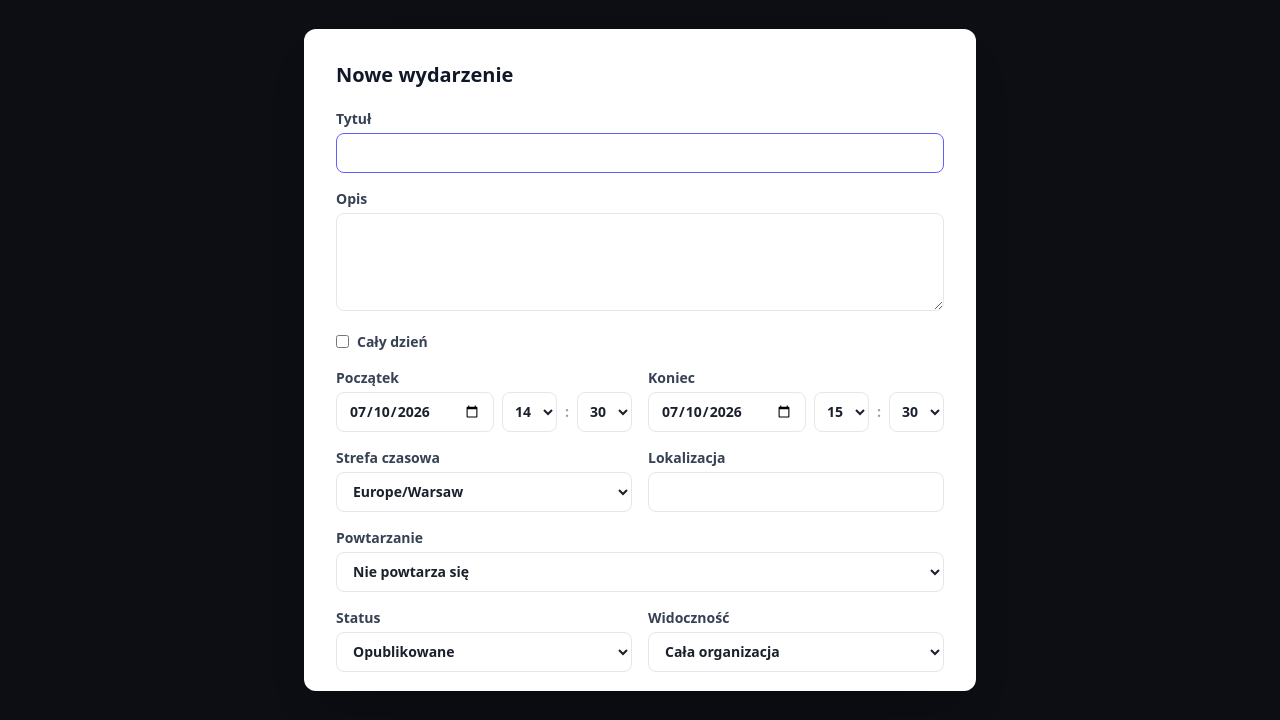
EventFormModal › sets both dates to the clicked day for an all-day event
This screenshot has width=1280, height=720.
Click the checkbox labelled "Cały dzień" at {"x": 342, "y": 342}, box [336, 335, 349, 348]
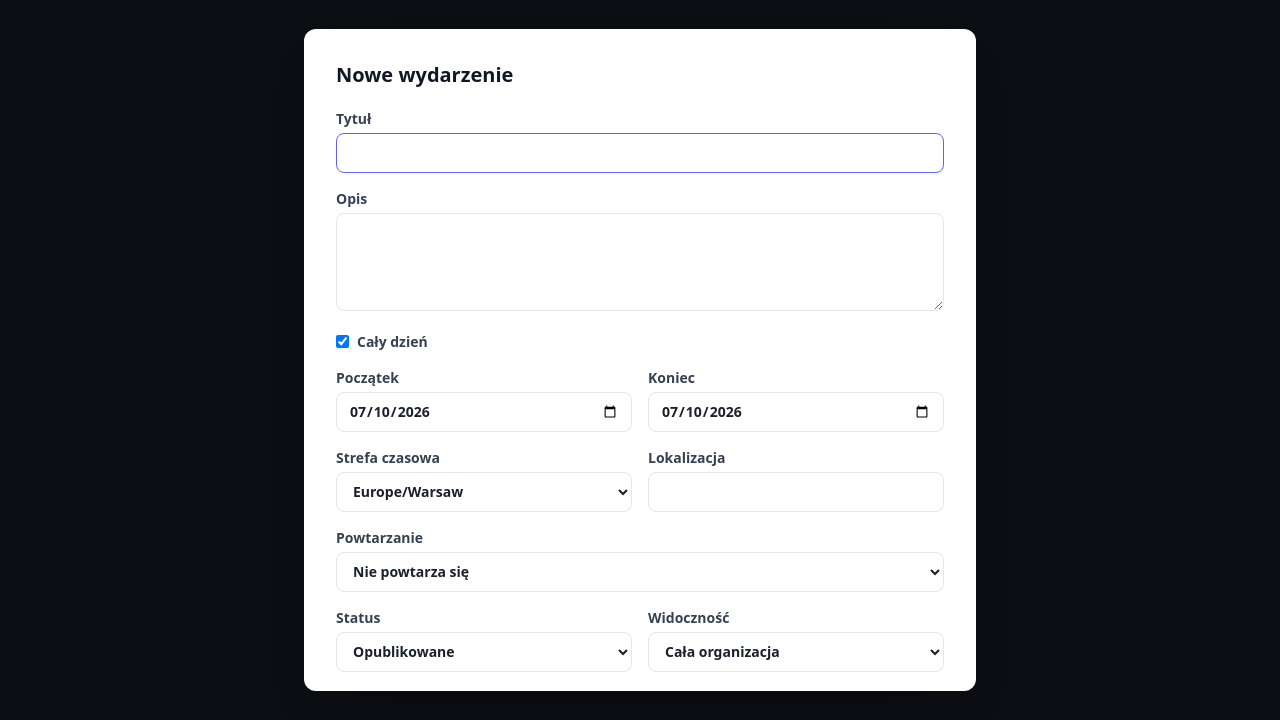
Expected: the date field labelled "Początek" holds "2026-07-10", [336, 392, 632, 432]
Expected: the date field labelled "Koniec" holds "2026-07-10", [648, 392, 944, 432]
